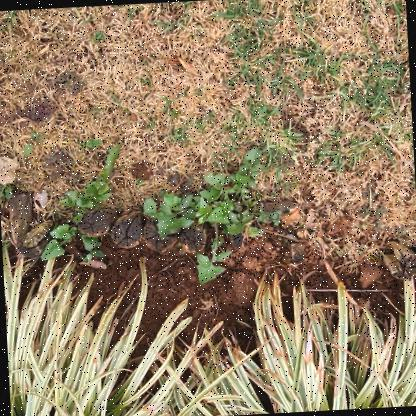Weeds: (140, 141, 287, 287), (34, 140, 126, 265), (0, 148, 15, 209)
